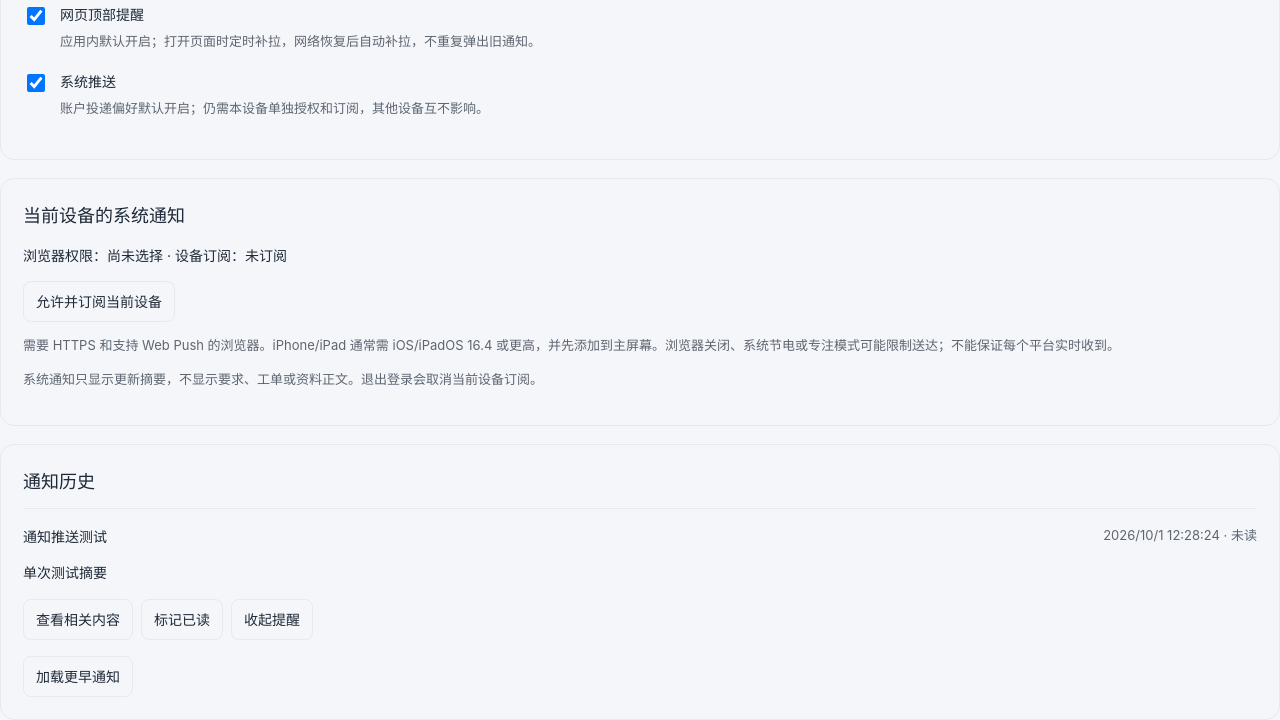
does not restore an older unread page that arrives after a bulk reset
(page scrolled)
Check: the checkbox labelled "网页顶部提醒 应用内默认开启；打开页面时定时补拉，网络恢复后自动补拉，不重复弹出旧通知。" is enabled, box [27,7,45,25]
Step 1. Click the button "加载更早通知" → (78, 676), box [23,656,133,697]
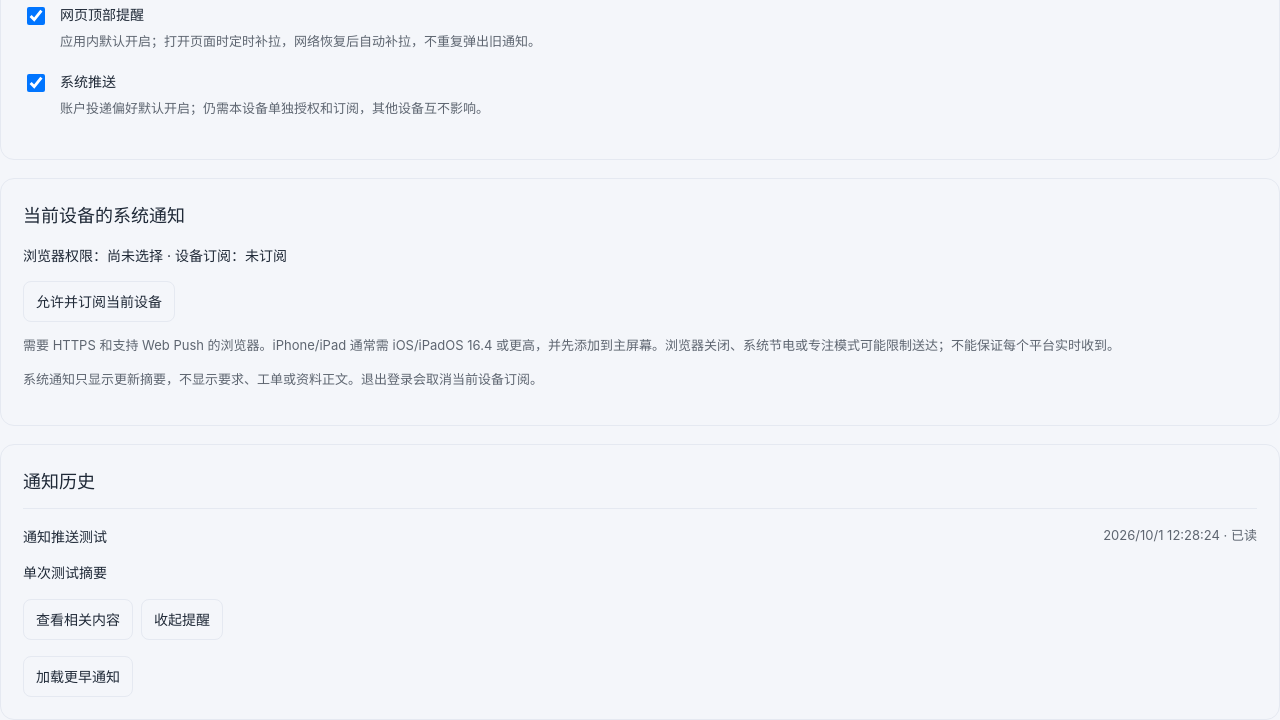
Check: the button "标记已读" is gone
